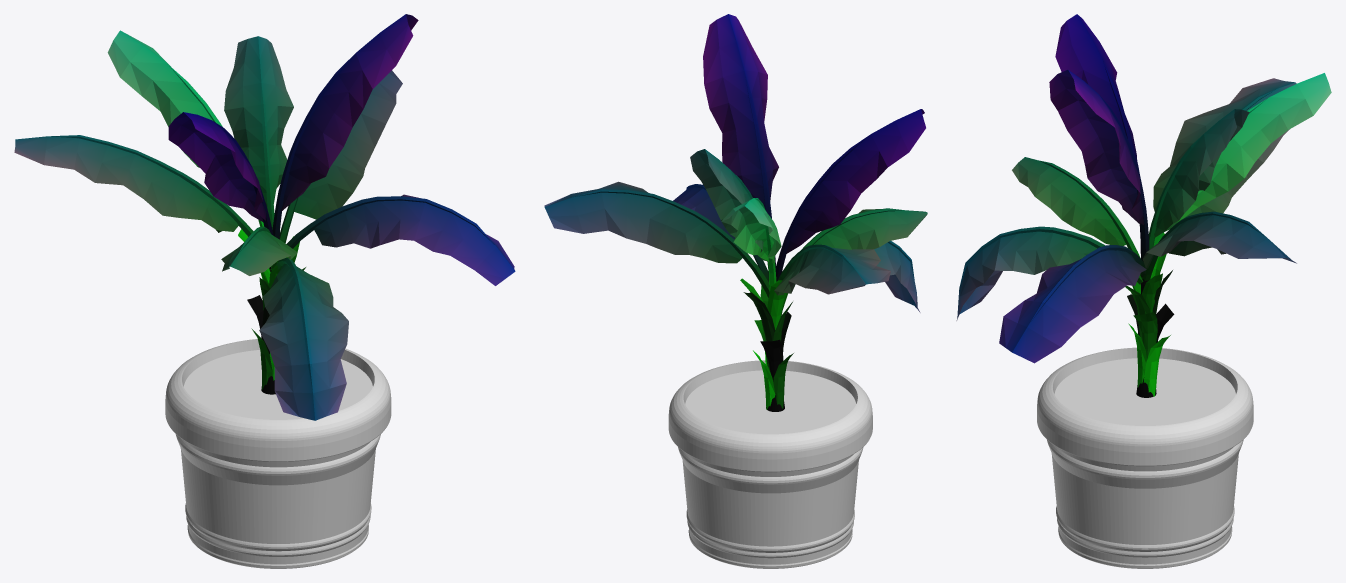
File: mv_PottedPlantB.fbx
3 renders of one model, left to right at view 1: azimuth 30°, elevation 25°; view 2: azimuth 150°, elevation 25°; view 3: azimuth 270°, elevation 25°, orthographic. The views are drawn at different scales.
Parts seen in each view (by area): view 1: PottedPlantB_LOD0; view 2: PottedPlantB_LOD0; view 3: PottedPlantB_LOD0.
Boxes of the visible parts, box(x1,y1,x2,y2) form: PottedPlantB_LOD0: box(14, 14, 515, 568); PottedPlantB_LOD0: box(544, 14, 927, 568); PottedPlantB_LOD0: box(956, 14, 1331, 568).
Size of what is drawn, in the model's own units: 134 by 180 by 121.
